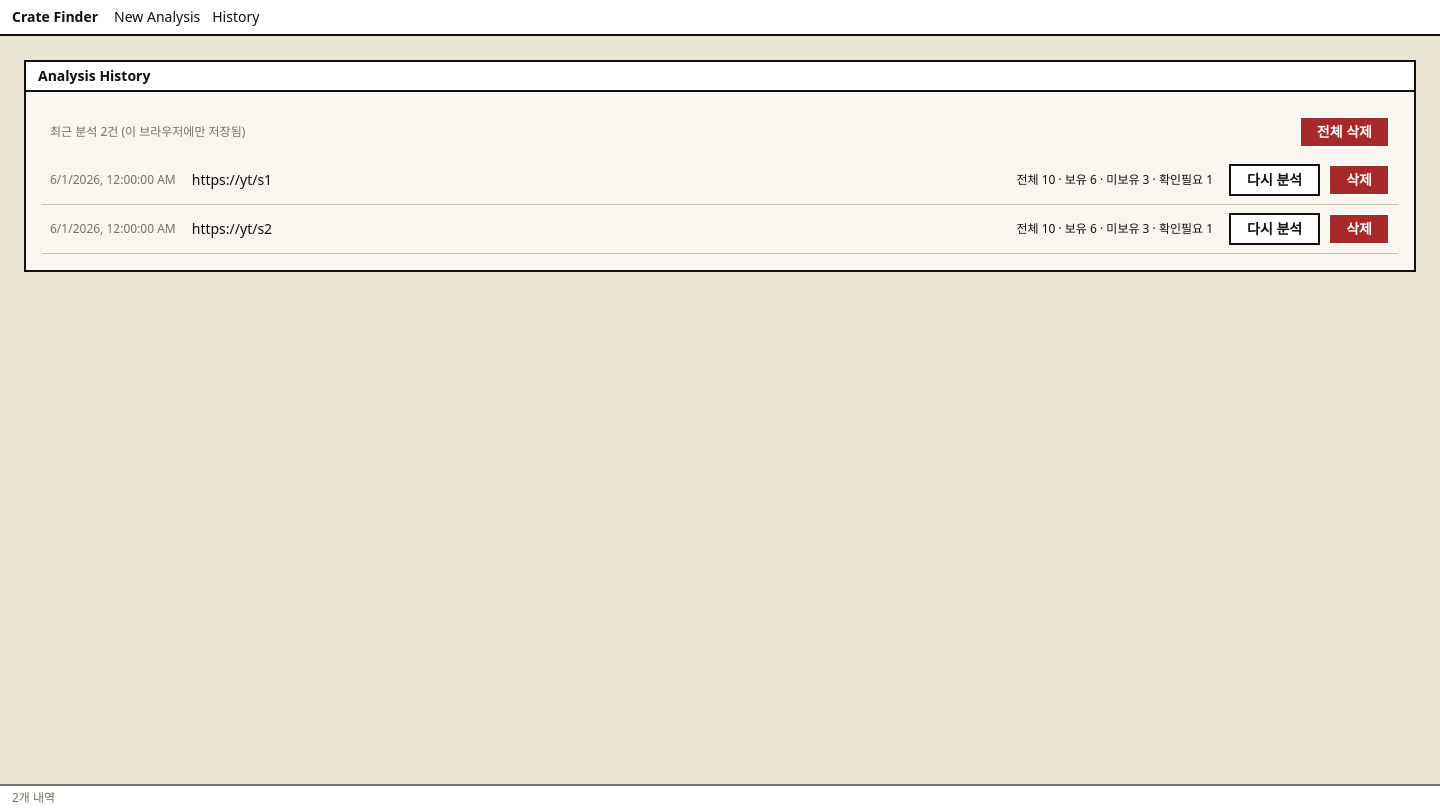
Test case: HistoryPage › 전체 삭제 확인 시 clearSessions 후 비워진다
The image size is (1440, 810).
Expected: the text "https://yt/s1" is shown, [192,170,272,189]
Click the button "전체 삭제".
click(1344, 132)  # box [1299,116,1390,148]
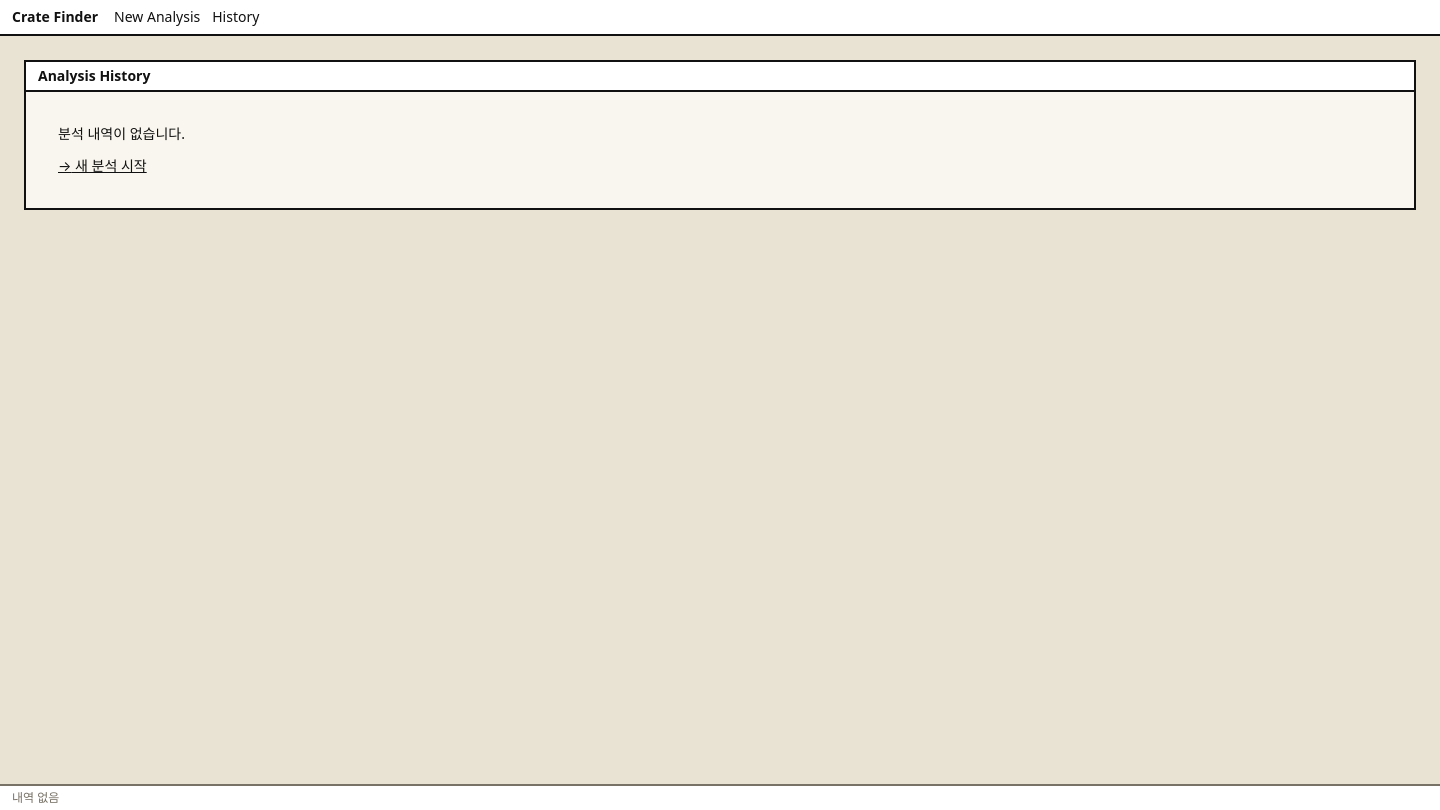
Expected: the text "분석 내역이 없습니다." is shown, [58,124,185,144]
